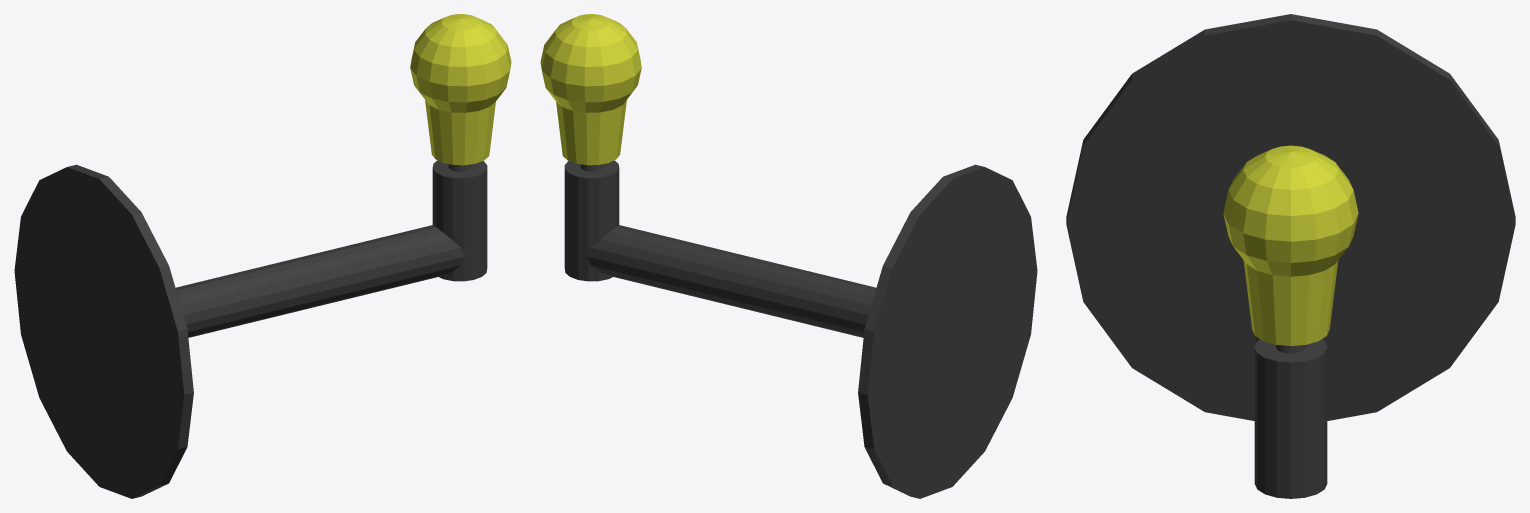
The model's file is Wall Lamp without cover.fbx.
3 renders of one model, left to right at view 1: azimuth 30°, elevation 25°; view 2: azimuth 150°, elevation 25°; view 3: azimuth 270°, elevation 25°, orthographic. The views are drawn at different scales.
Parts seen in each view (by area): view 1: Cylinder_1, Cylinder, Sphere, Cylinder_5; view 2: Cylinder_1, Cylinder, Sphere, Cylinder_5; view 3: Cylinder_1, Sphere, Cylinder_5.
Boxes of the visible parts, x1,y1,x2,y2 form: Cylinder_1: [14, 164, 193, 498]; Cylinder: [175, 225, 465, 337]; Sphere: [410, 14, 511, 165]; Cylinder_5: [432, 160, 487, 281]; Cylinder_1: [858, 164, 1037, 498]; Cylinder: [586, 225, 876, 337]; Sphere: [540, 14, 641, 165]; Cylinder_5: [564, 160, 619, 281]; Cylinder_1: [1066, 14, 1515, 420]; Sphere: [1223, 145, 1358, 345]; Cylinder_5: [1254, 339, 1327, 498].
Size of the model in its own units: 143 by 128 by 103.
